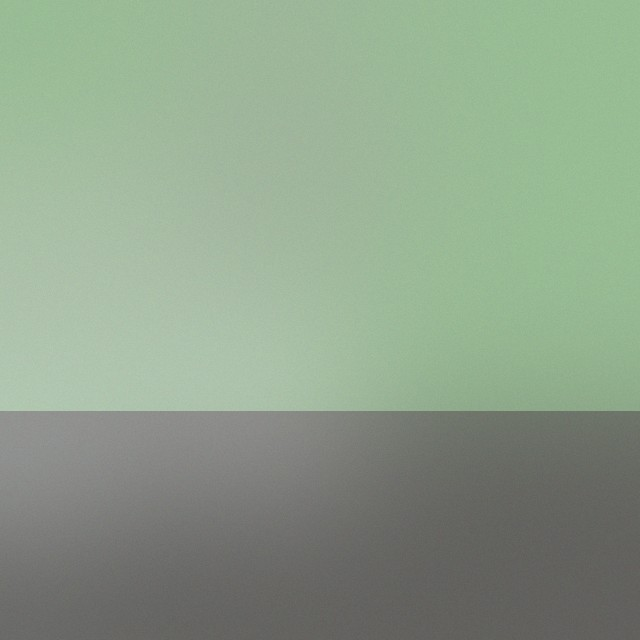smoke: (23, 136, 315, 428)
